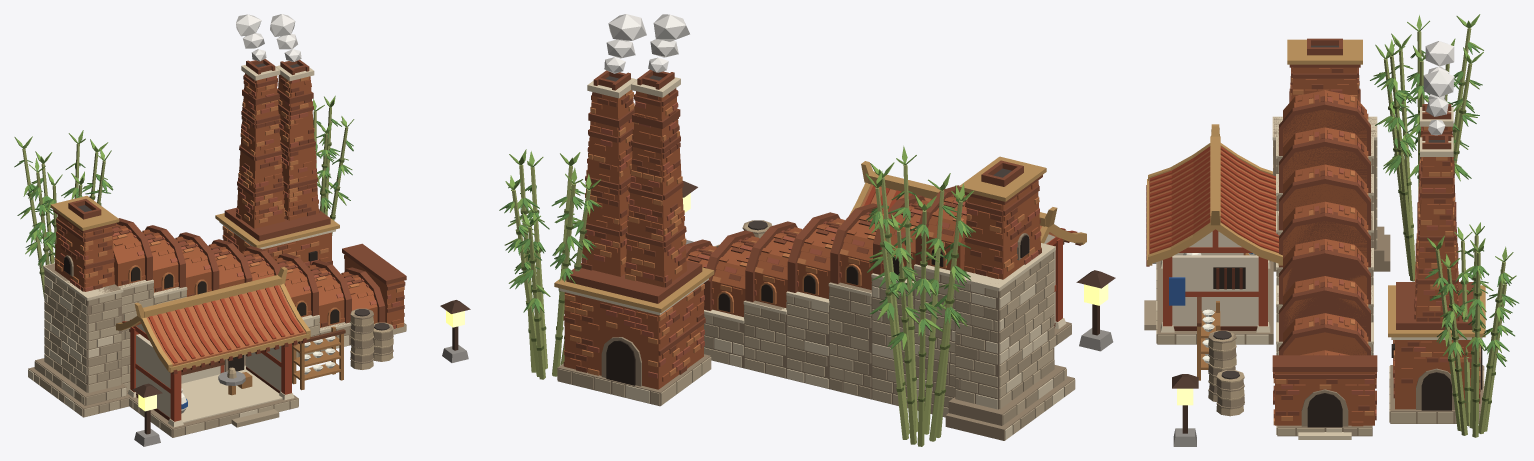
Rendered from kiln_town.glb.
3 renders of one model, left to right at view 1: azimuth 30°, elevation 25°; view 2: azimuth 150°, elevation 25°; view 3: azimuth 270°, elevation 25°, orthographic. The views are drawn at different scales.
Parts seen in each view (by area): view 1: kiln_town_KT_Brick, kiln_town_KT_BrickDark, kiln_town_KT_StoneLight, kiln_town_KT_Stone, kiln_town_KT_Ochre, kiln_town_KT_StoneMid, kiln_town_KT_Terracotta, kiln_town_KT_StoneShade, kiln_town_KT_RoofTerracotta, kiln_town_KT_BrickLight, kiln_town_KT_Plaster, kiln_town_KT_Culm (+13 smaller); view 2: kiln_town_KT_Brick, kiln_town_KT_BrickDark, kiln_town_KT_Stone, kiln_town_KT_Culm, kiln_town_KT_StoneMid, kiln_town_KT_StoneShade, kiln_town_KT_StoneLight, kiln_town_KT_LeafFresh, kiln_town_KT_BrickLight, kiln_town_KT_Ochre, kiln_town_KT_BrickWarm, kiln_town_KT_LeafFreshLight (+7 smaller); view 3: kiln_town_KT_Brick, kiln_town_KT_BrickDark, kiln_town_KT_Culm, kiln_town_KT_RoofTerracotta, kiln_town_KT_Ochre, kiln_town_KT_Plaster, kiln_town_KT_StoneShade, kiln_town_KT_LeafFresh, kiln_town_KT_Terracotta, kiln_town_KT_LeafFreshLight, kiln_town_KT_StoneLight, kiln_town_KT_DeepArch (+18 smaller).
Boxes of the visible parts, x1,y1,x2,y2 form: kiln_town_KT_Brick: [55, 73, 403, 327]; kiln_town_KT_BrickDark: [53, 59, 406, 327]; kiln_town_KT_StoneLight: [28, 64, 404, 427]; kiln_town_KT_Stone: [34, 279, 406, 434]; kiln_town_KT_Ochre: [50, 195, 339, 372]; kiln_town_KT_StoneMid: [34, 269, 349, 437]; kiln_town_KT_Terracotta: [132, 285, 305, 366]; kiln_town_KT_StoneShade: [28, 263, 406, 437]; kiln_town_KT_RoofTerracotta: [122, 285, 303, 363]; kiln_town_KT_BrickLight: [54, 75, 404, 328]; kiln_town_KT_Plaster: [136, 324, 281, 417]; kiln_town_KT_Culm: [22, 107, 348, 298]; kiln_town_KT_Brick: [564, 88, 1040, 389]; kiln_town_KT_BrickDark: [563, 69, 1042, 374]; kiln_town_KT_Stone: [557, 259, 1075, 434]; kiln_town_KT_Culm: [511, 164, 962, 446]; kiln_town_KT_StoneMid: [558, 252, 1071, 428]; kiln_town_KT_StoneShade: [557, 251, 1074, 440]; kiln_town_KT_StoneLight: [559, 77, 1066, 440]; kiln_town_KT_LeafFresh: [499, 179, 973, 349]; kiln_town_KT_BrickLight: [563, 90, 1040, 376]; kiln_town_KT_Ochre: [554, 156, 1086, 312]; kiln_town_KT_BrickWarm: [563, 101, 1041, 378]; kiln_town_KT_LeafFreshLight: [504, 146, 975, 350]; kiln_town_KT_Brick: [1273, 67, 1480, 426]; kiln_town_KT_BrickDark: [1272, 38, 1480, 420]; kiln_town_KT_Culm: [1383, 28, 1506, 437]; kiln_town_KT_RoofTerracotta: [1150, 146, 1279, 253]; kiln_town_KT_Ochre: [1147, 39, 1485, 337]; kiln_town_KT_Plaster: [1172, 231, 1258, 326]; kiln_town_KT_StoneShade: [1157, 117, 1483, 436]; kiln_town_KT_LeafFresh: [1370, 42, 1519, 366]; kiln_town_KT_Terracotta: [1149, 150, 1278, 254]; kiln_town_KT_LeafFreshLight: [1373, 14, 1516, 361]; kiln_town_KT_StoneLight: [1156, 107, 1484, 439]; kiln_town_KT_DeepArch: [1307, 347, 1482, 427].
Bounding box in the file's own units: 4.14 × 3.25 × 3.22.
